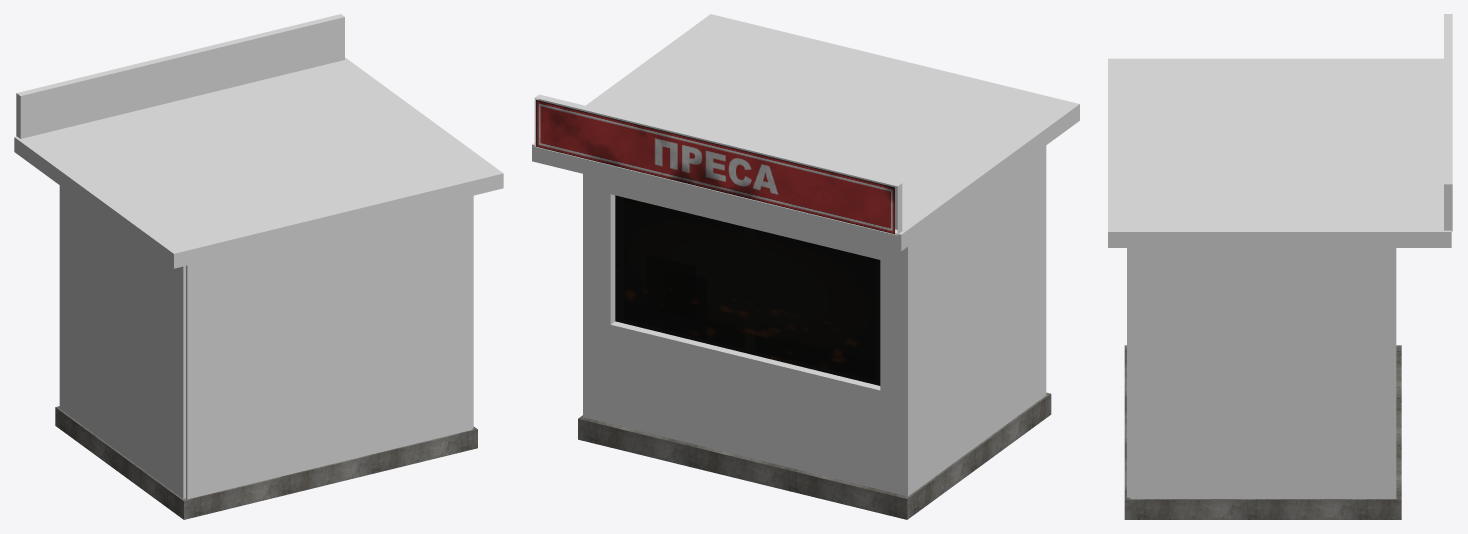
Rendered from S1U_Kiosk_Burnt.fbx.
3 renders of one model, left to right at view 1: azimuth 30°, elevation 25°; view 2: azimuth 150°, elevation 25°; view 3: azimuth 270°, elevation 25°, orthographic. The views are drawn at different scales.
Parts seen in each view (by area): view 1: S1U_Kiosk_Burnt; view 2: S1U_Kiosk_Burnt; view 3: S1U_Kiosk_Burnt.
Boxes of the visible parts, x1,y1,x2,y2 form: S1U_Kiosk_Burnt: [14, 14, 503, 519]; S1U_Kiosk_Burnt: [532, 14, 1079, 519]; S1U_Kiosk_Burnt: [1108, 14, 1452, 519].
Size of the model in its own units: 3.7 by 3.42 by 3.12.
